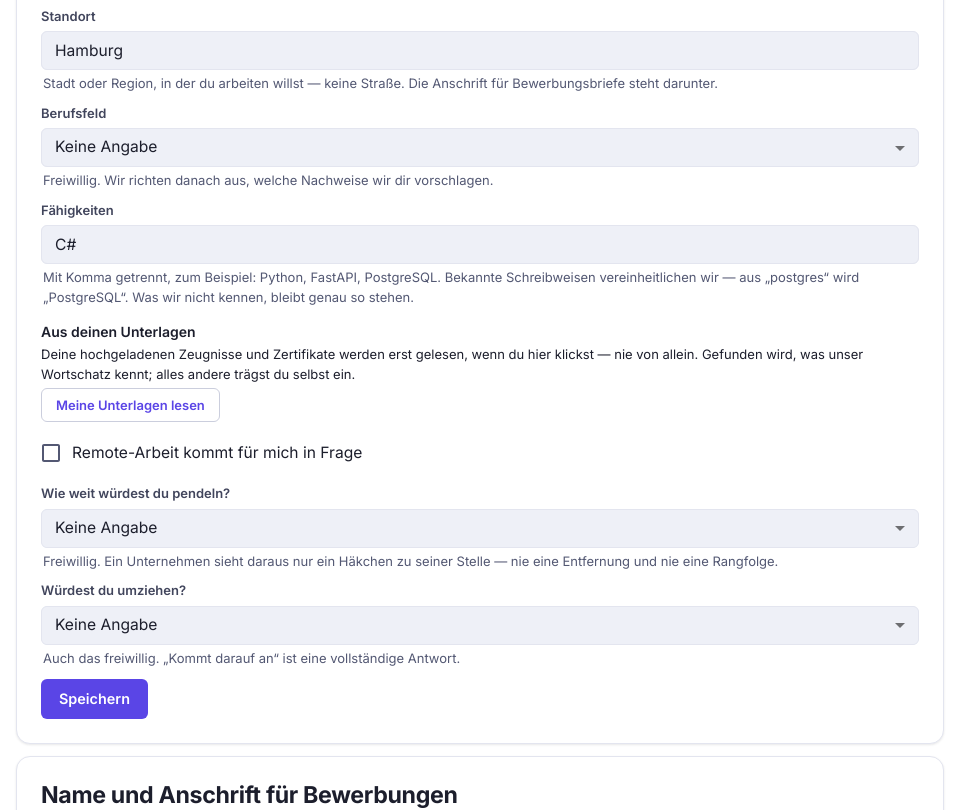
Test: ProfilePage — Vorschläge aus den eigenen Unterlagen › liest auf Klick und schlägt die gefundenen Wörter vor
(page scrolled)
Click the button "Meine Unterlagen lesen" at (130, 405), box [41,388,220,422]
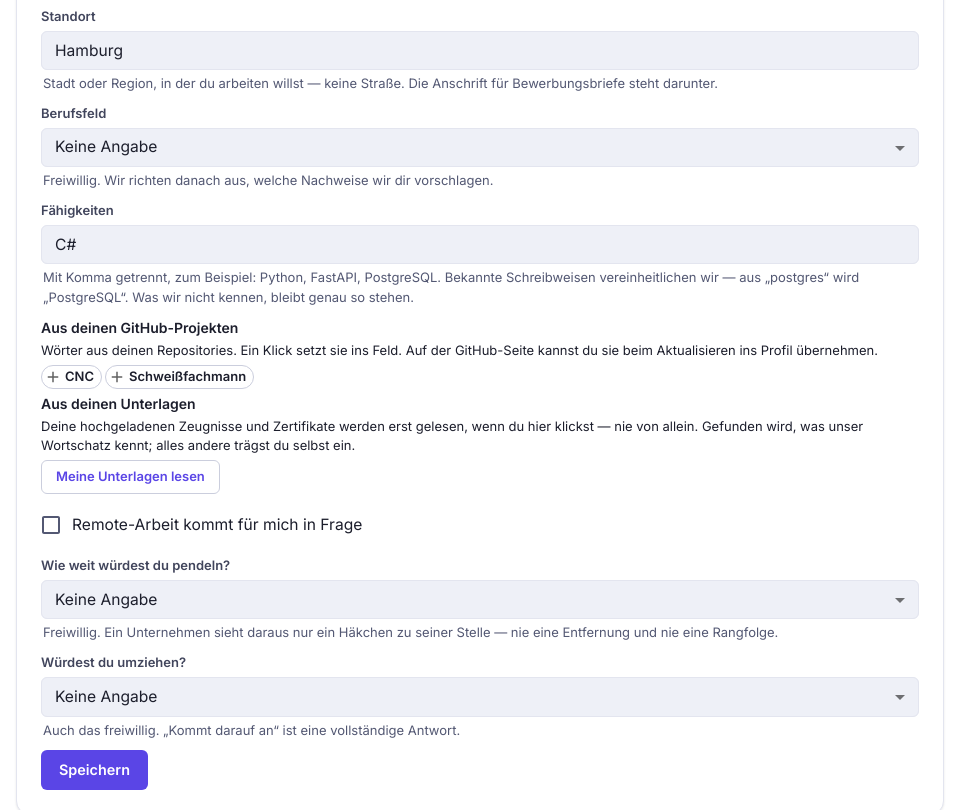
Expected: the field labelled "Fähigkeiten" holds "C#", [41,225,919,264]
Expected: the button "Schweißfachmann" is shown, [105,365,254,389]
